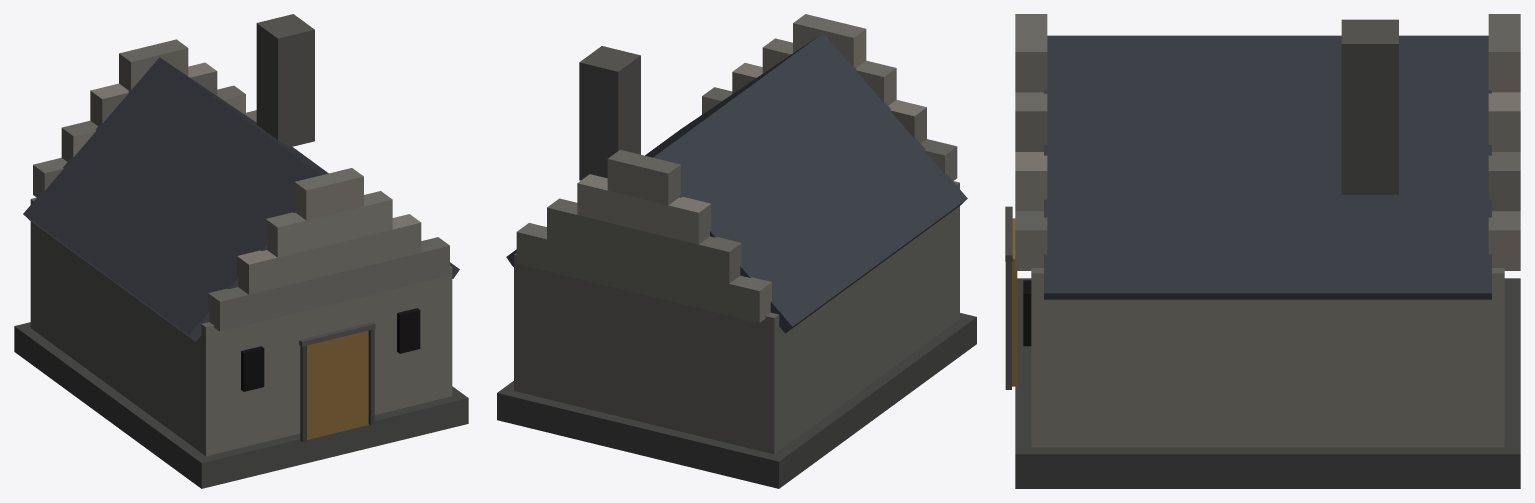
Rendered from dwarf_hall.glb.
The picture shows the model from 3 angles, left to right: view 1: azimuth 30°, elevation 25°; view 2: azimuth 150°, elevation 25°; view 3: azimuth 270°, elevation 25°; orthographic projection. The views are drawn at different scales.
Visible parts, largest first — view 1: dwarf_hall; view 2: dwarf_hall; view 3: dwarf_hall.
Part boxes in pixels (bbox=[...]): dwarf_hall: bbox=[14, 14, 468, 488]; dwarf_hall: bbox=[497, 14, 976, 488]; dwarf_hall: bbox=[1005, 14, 1520, 488].
Bounding box in the file's own units: 6.6 × 7.3 × 8.06.
Materials: 2 (2 with a texture image).
